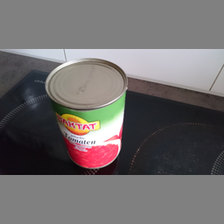tomato_sauce: (43, 57, 129, 170)
